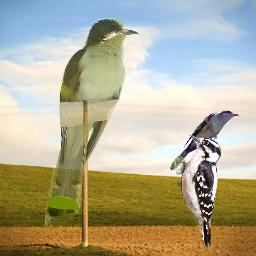Cuckoo: (44, 18, 140, 232), (170, 110, 239, 170)
Woodpecker: (176, 134, 222, 251)
